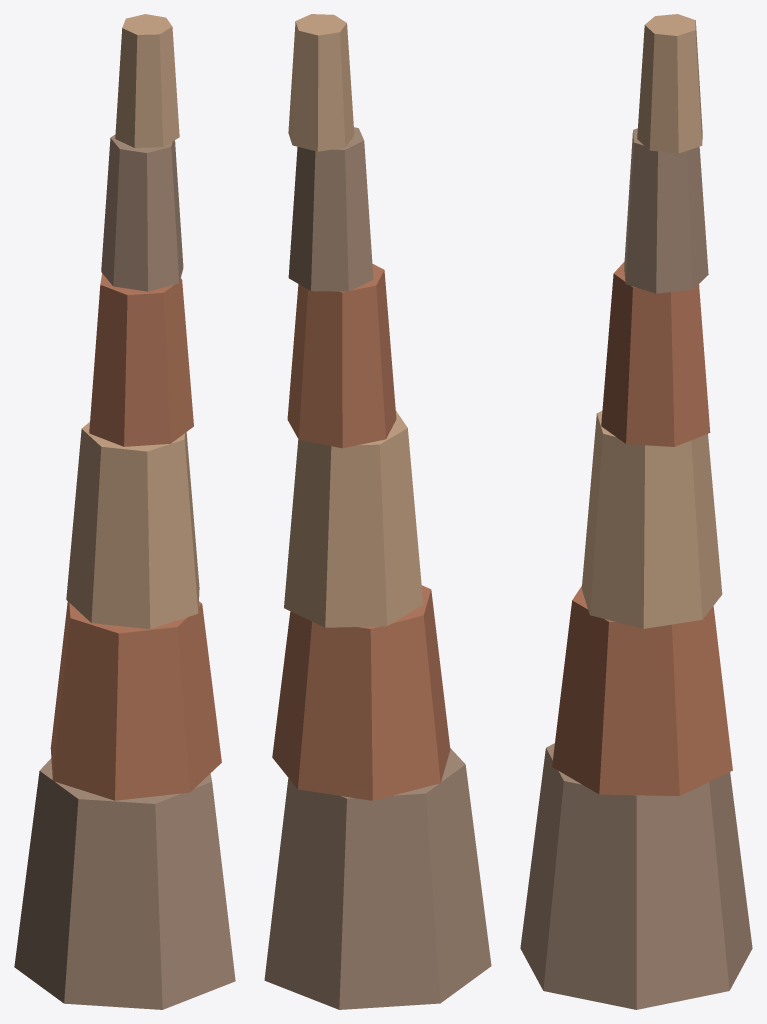
Rendered from Spire.glb.
3 renders of one model, left to right at view 1: azimuth 30°, elevation 25°; view 2: azimuth 150°, elevation 25°; view 3: azimuth 270°, elevation 25°, orthographic. The views are drawn at different scales.
Visible parts, largest first — view 1: Spire; view 2: Spire; view 3: Spire.
Part boxes in pixels (x1,y1,x2,y2): Spire: (14,14,235,1009); Spire: (264,14,491,1009); Spire: (520,14,752,1009).
Size of the model in its own units: 3.23 by 15 by 3.31.
